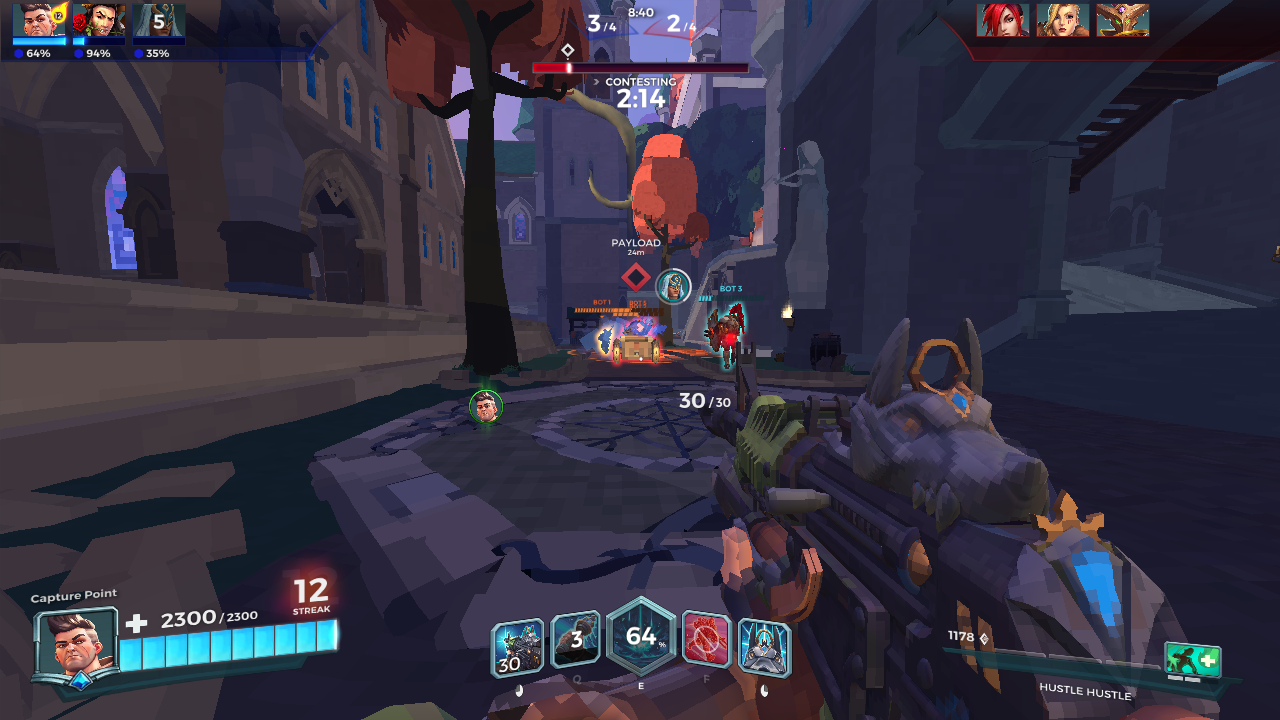model: (594, 322, 615, 352)
